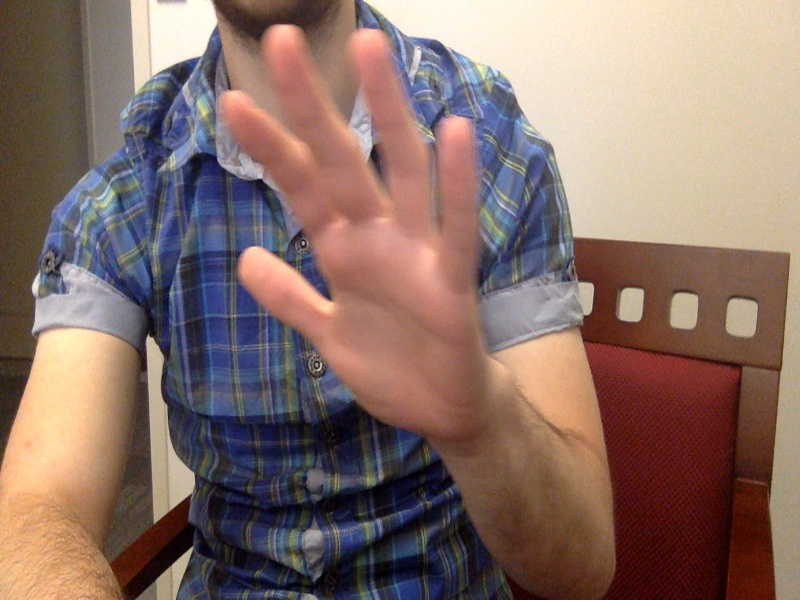5-hand: (219, 23, 500, 456)
